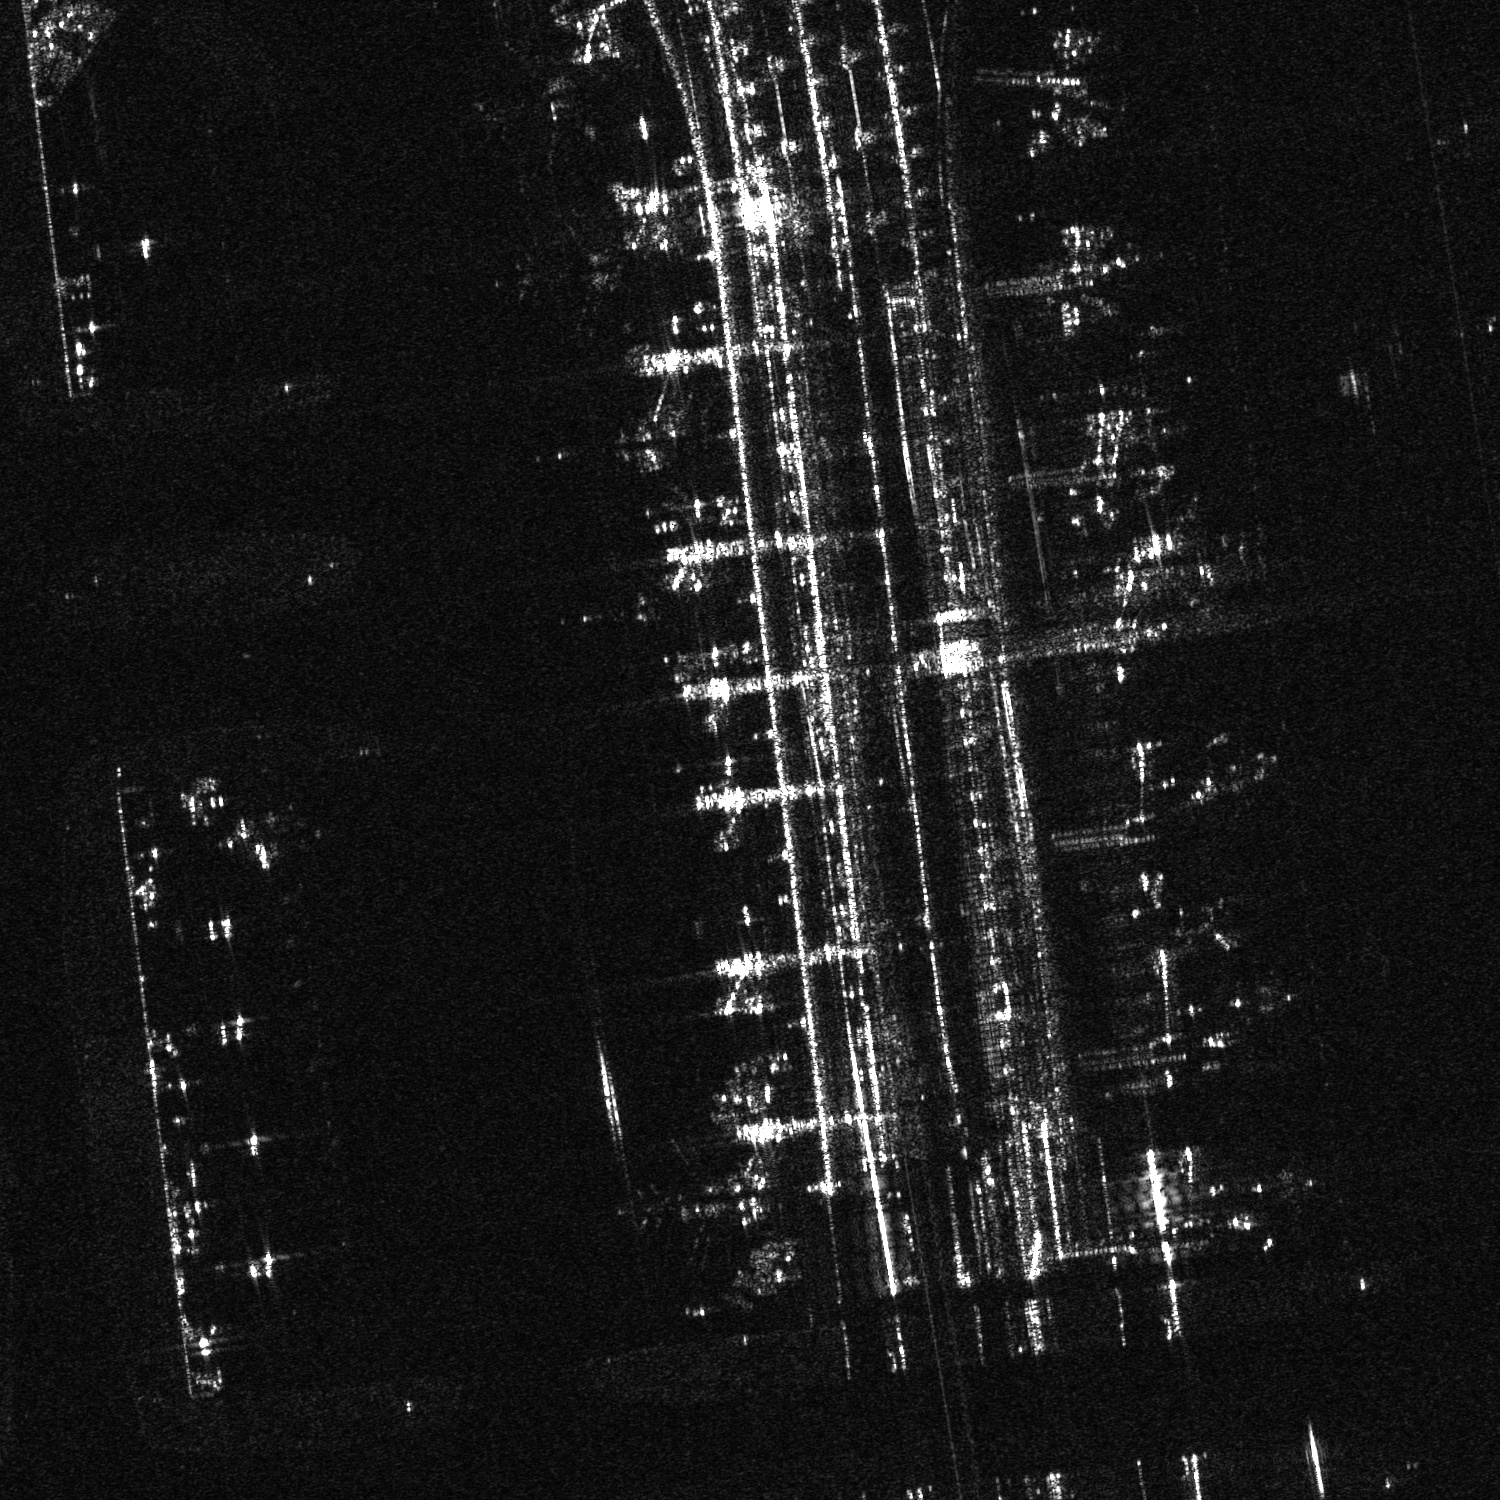A330: (615, 1135, 747, 1279)
Boeing787: (473, 43, 580, 173)
other: (516, 207, 624, 334)
